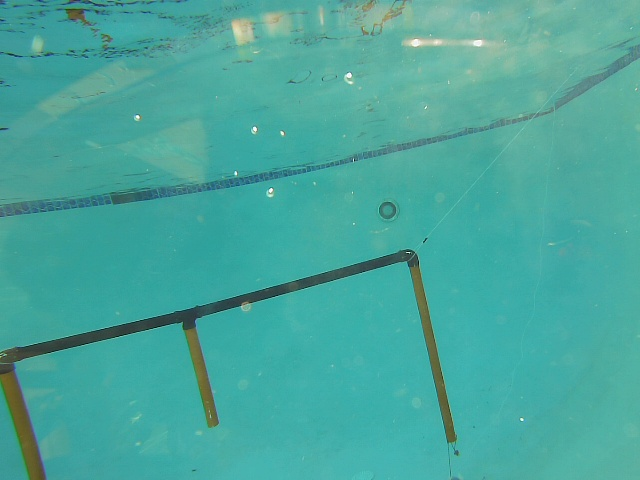Gate: (407, 262, 466, 449), (1, 365, 48, 479), (180, 325, 222, 433)
